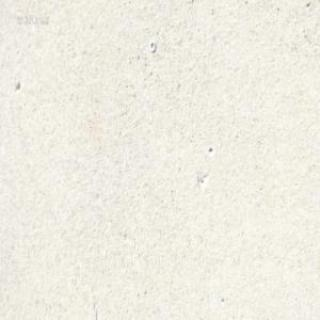Washertrack_idkeyframe: (148, 40, 156, 52)
